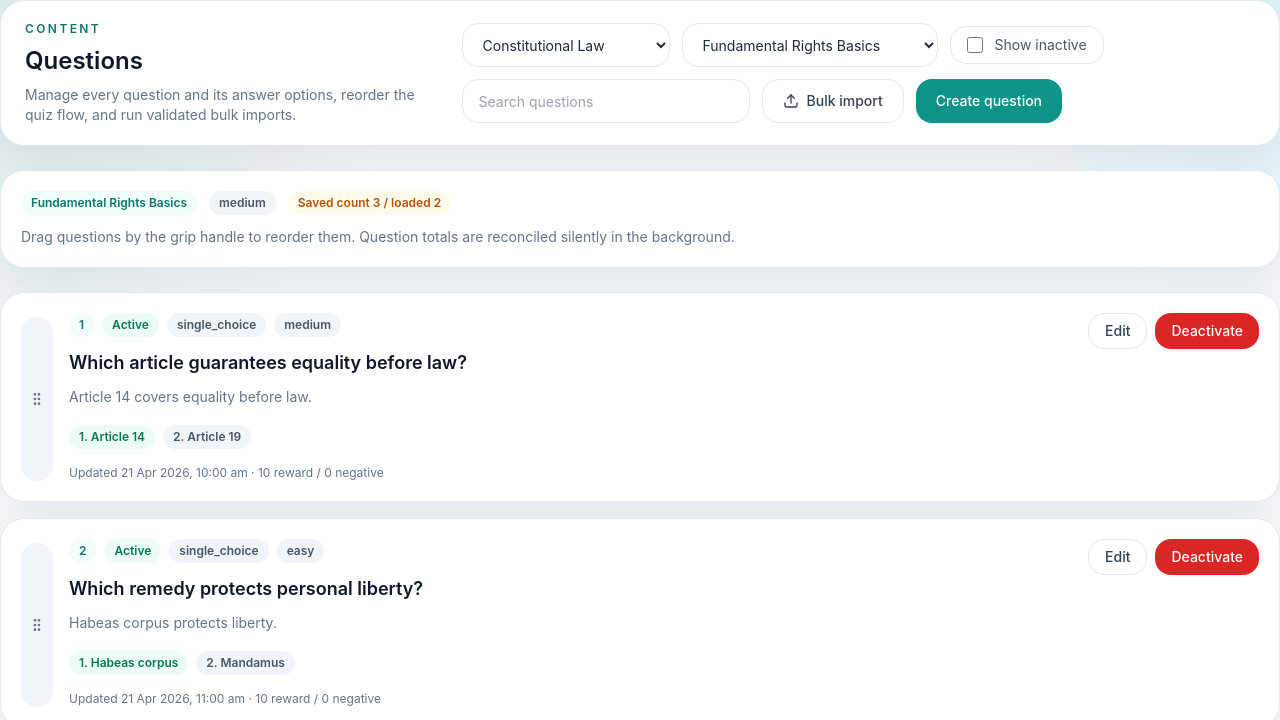
Test: QuestionsPage › lists questions for the selected quiz, supports local search, and reconciles stored counts
Expected: the heading "Which article guarantees equality before law?" is shown, [69,349,467,377]
Expected: the text "Saved count 3 / loaded 2" is shown, [288,191,451,215]
Type "liberty" into the field with placeholder "Search questions". click: [606, 101]
box: [462,79,750,123]
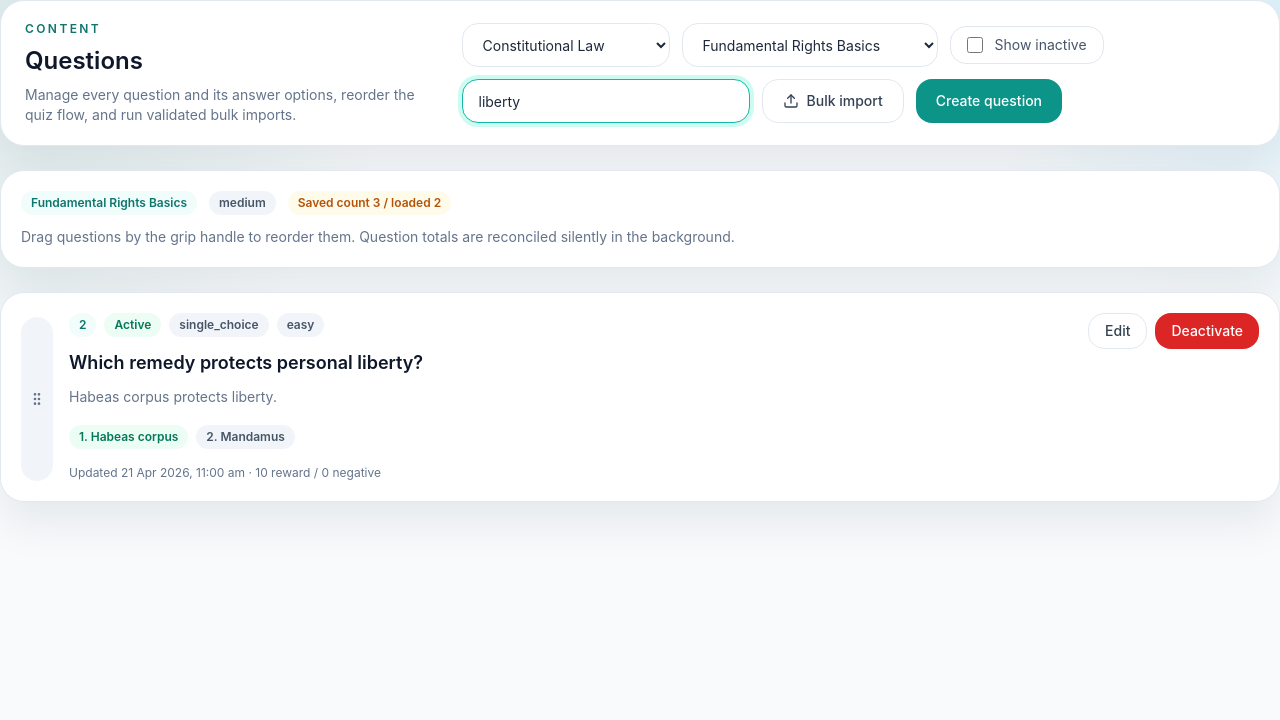
Expected: the heading "Which remedy protects personal liberty?" is shown, [69,349,423,377]
Expected: the heading "Which article guarantees equality before law?" is gone
